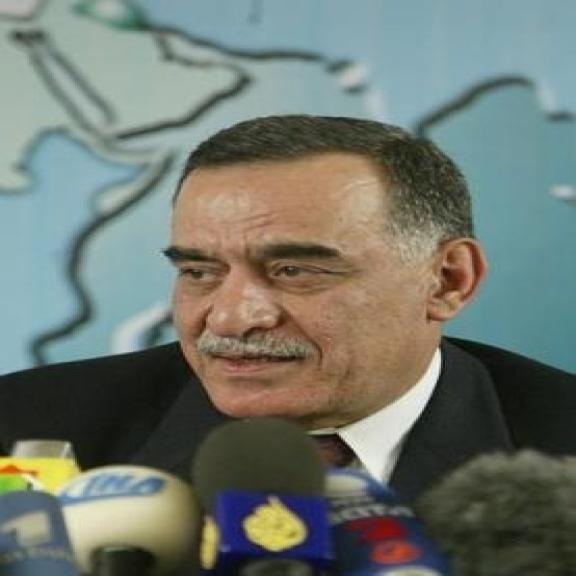face: (166, 114, 490, 424)
